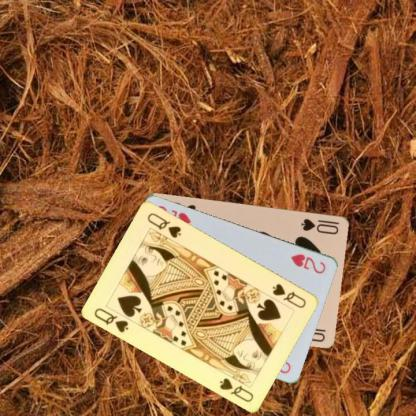10s: (299, 216, 341, 236)
2h: (288, 251, 327, 275)
Qs: (270, 280, 308, 310), (92, 305, 130, 334)
